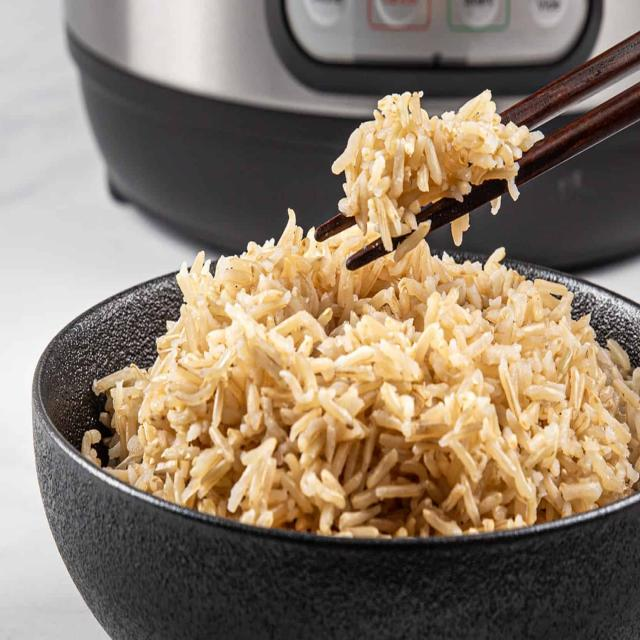Rice: (82, 94, 640, 543)
